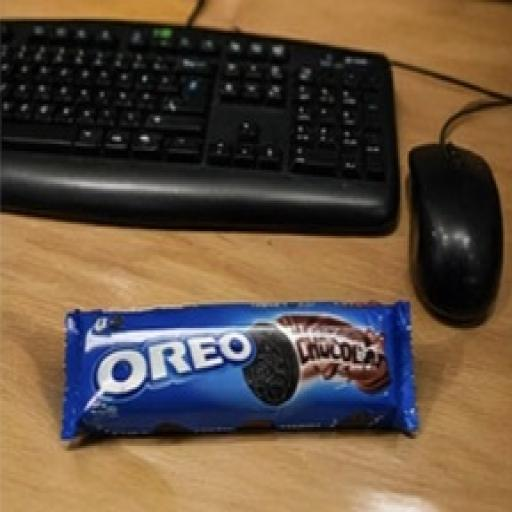oreo: (29, 220, 471, 446)
